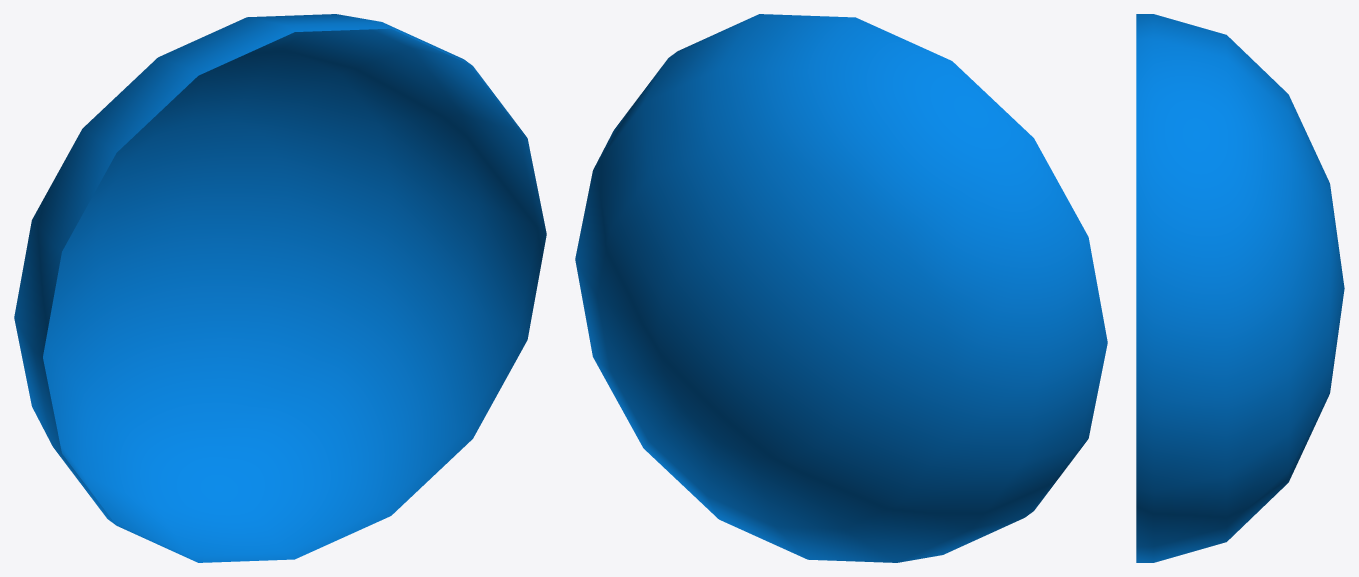
File: HalfSphere.fbx
The picture shows the model from 3 angles, left to right: view 1: azimuth 30°, elevation 25°; view 2: azimuth 150°, elevation 25°; view 3: azimuth 270°, elevation 25°; orthographic projection. The views are drawn at different scales.
Visible parts, largest first — view 1: halfSphere; view 2: halfSphere; view 3: halfSphere.
Part boxes in pixels (box(x1,y1,x2,y2)): halfSphere: box(14, 14, 546, 562); halfSphere: box(575, 14, 1107, 562); halfSphere: box(1136, 14, 1344, 562).
Size of the model in its own units: 20000 by 20000 by 7577.
